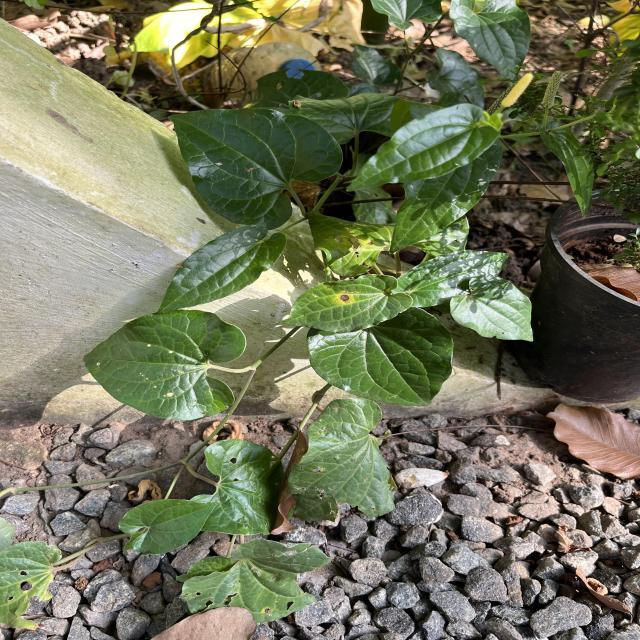Piper longum: (166, 106, 345, 230), (82, 308, 248, 422), (306, 304, 456, 408), (154, 222, 290, 316), (448, 272, 534, 344), (117, 497, 221, 556)
